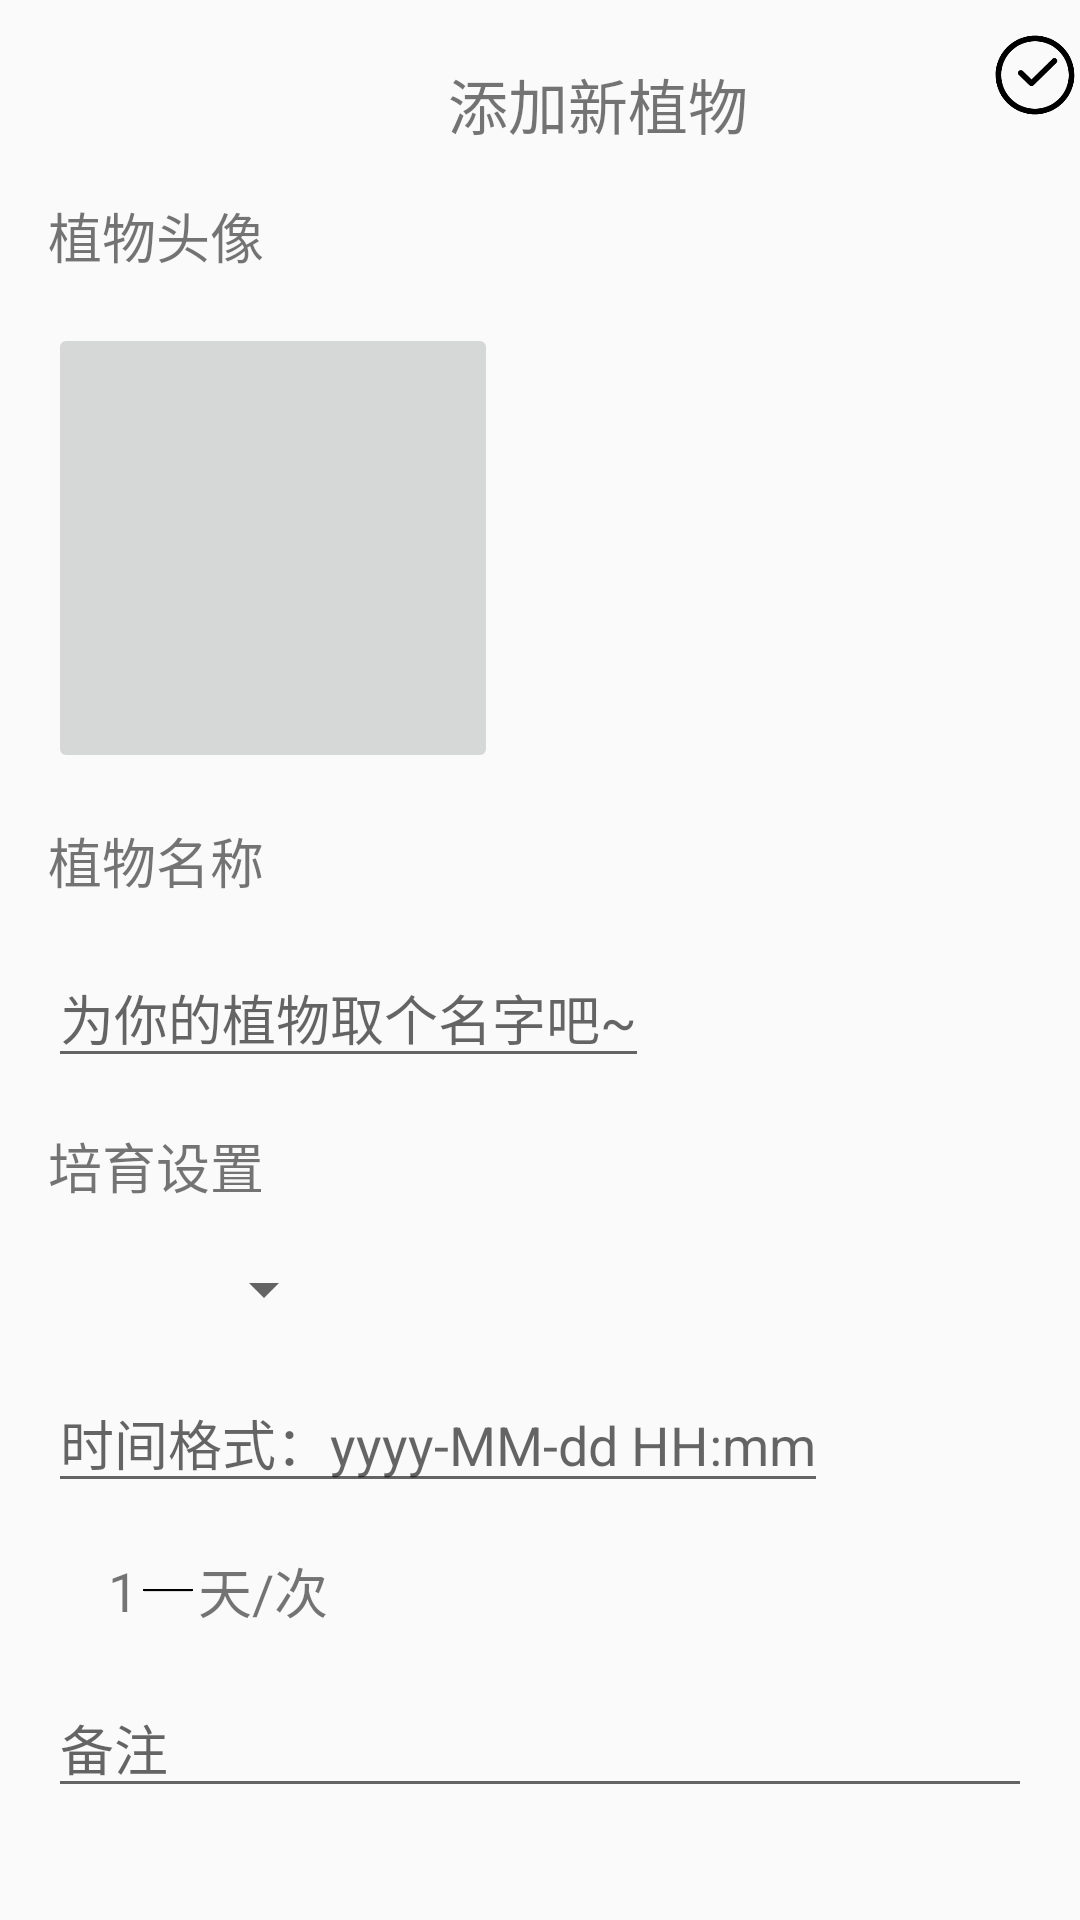

Where to tap for icons on this 1080 x 1920 app screen, as (x=x, y=y):
confirm: (x=1035, y=75)
